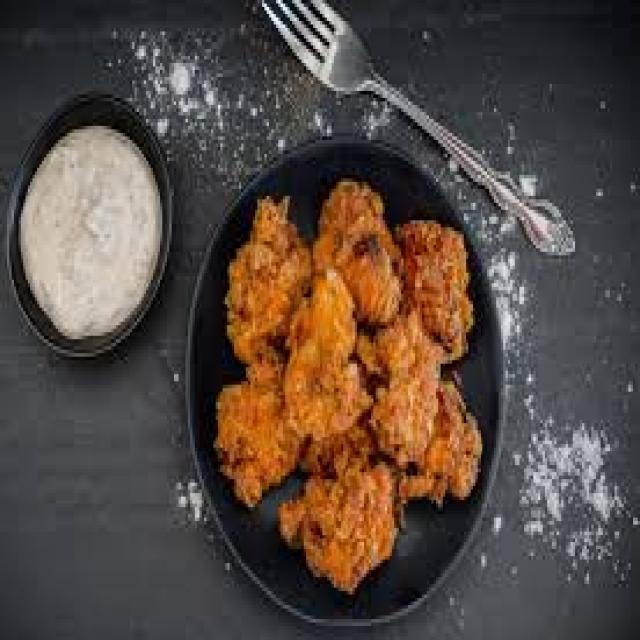Frango: (206, 185, 492, 588)
